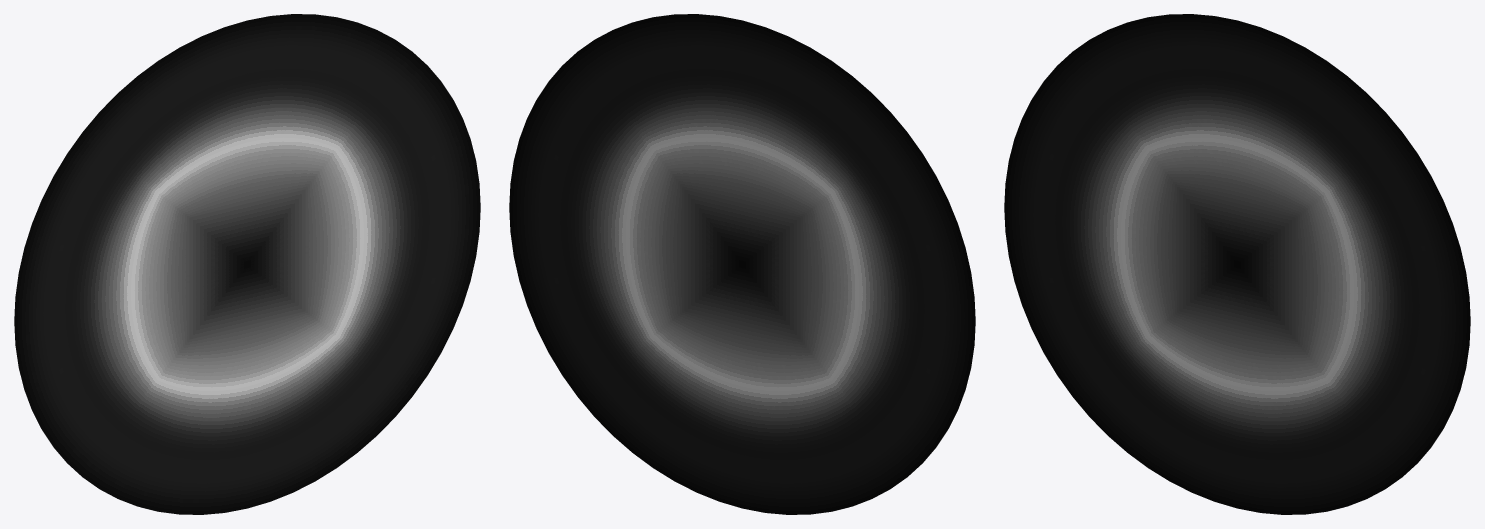
The model's file is eff_QuadToCircle01.fbx.
The picture shows the model from 3 angles, left to right: view 1: azimuth 30°, elevation 25°; view 2: azimuth 150°, elevation 25°; view 3: azimuth 330°, elevation 25°; orthographic projection.
Visible parts, largest first — view 1: eff_QuadToCircle01_msh; view 2: eff_QuadToCircle01_msh; view 3: eff_QuadToCircle01_msh.
Part boxes in pixels (bbox=[...]): eff_QuadToCircle01_msh: bbox=[14, 14, 480, 514]; eff_QuadToCircle01_msh: bbox=[509, 14, 975, 514]; eff_QuadToCircle01_msh: bbox=[1004, 14, 1470, 514].
Bounding box in the file's own units: 4 × 4 × 0.
